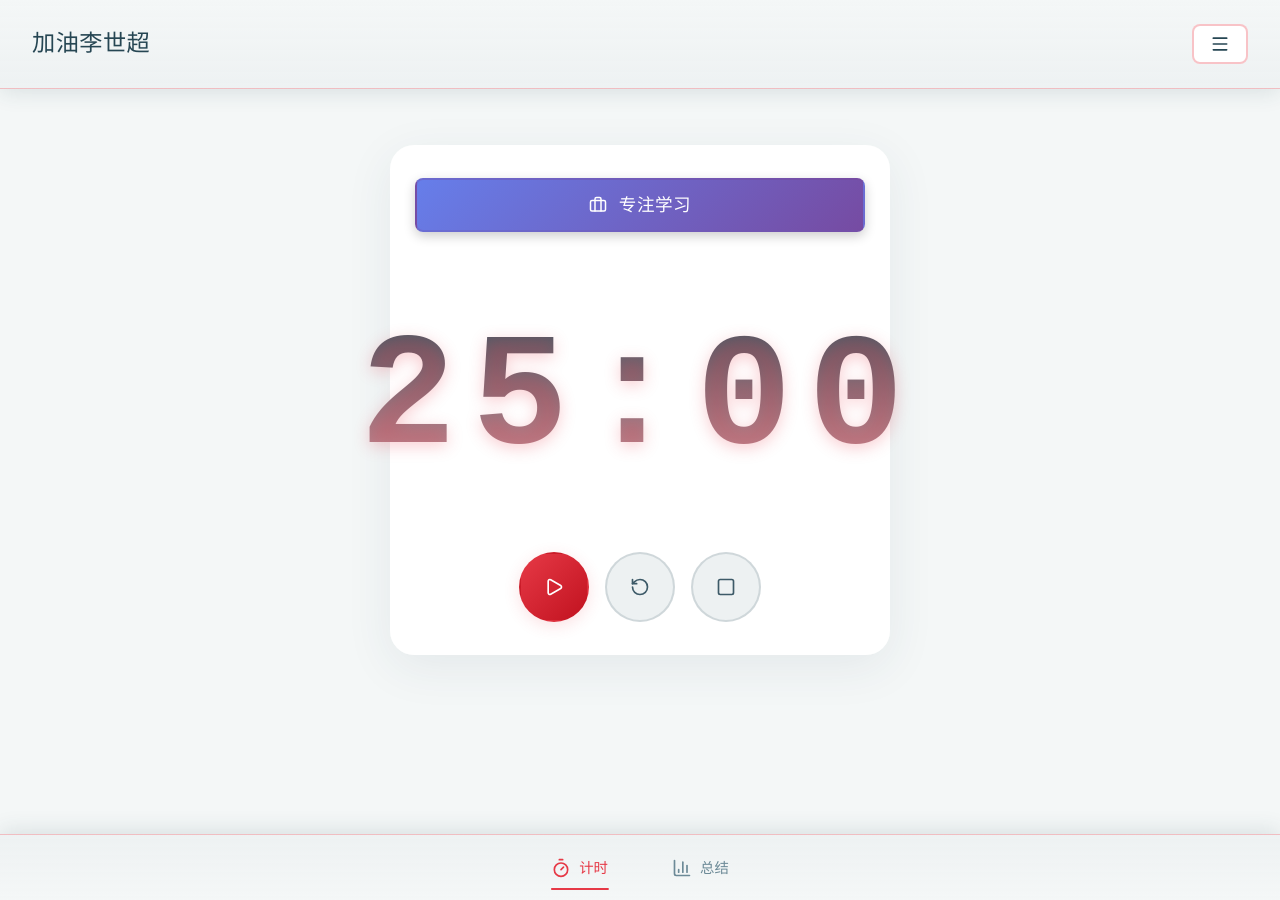
Test: 番茄钟 App › 每日总结只统计专注时段，并排除休息
What coordinates should you click on to do the following:
click the button with aria-label "Stats view"
I would click on:
 (700, 868)
Its box is [652,847,749,888].
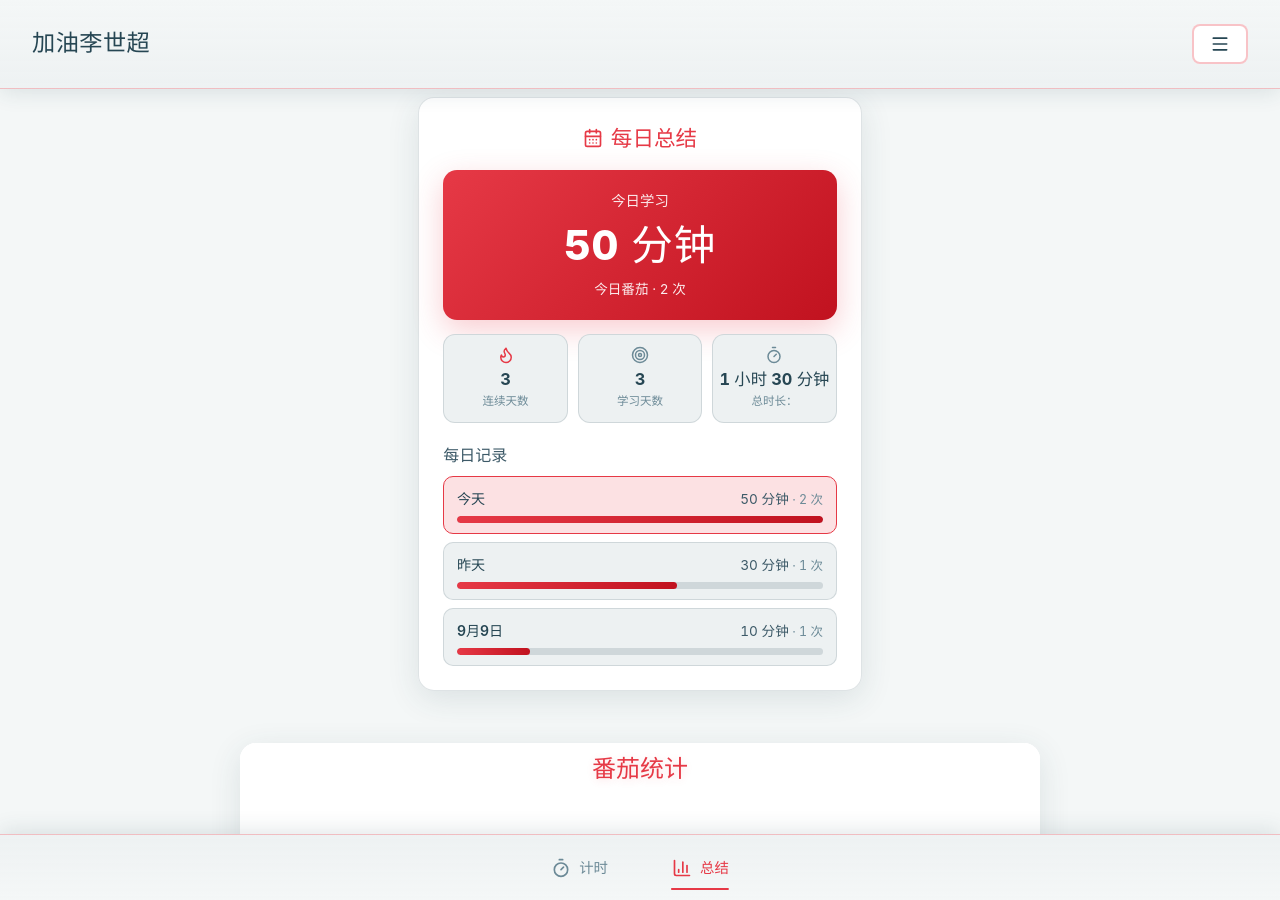
Check: the heading "每日总结" is shown, box [583,125,697,151]
Check: the text "50 分钟" is shown, box [564,214,716,277]
Check: the text "今日番茄 · 2 次" is shown, box [594,279,686,300]
